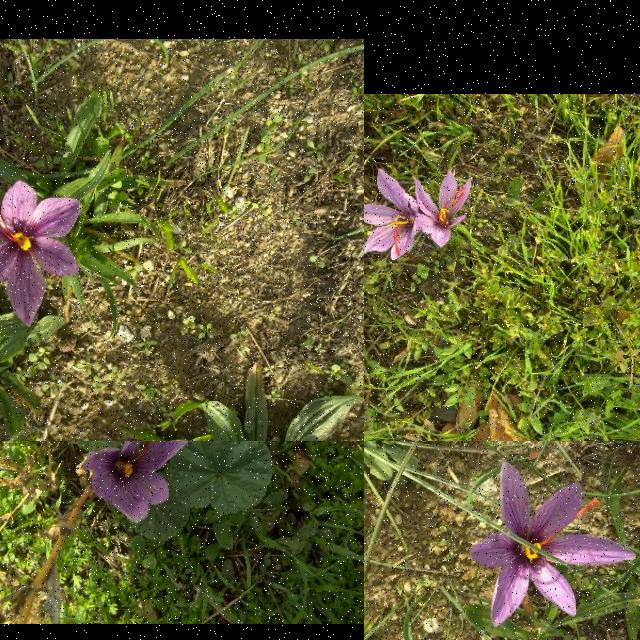flower: (470, 462, 636, 628), (0, 181, 81, 327), (81, 441, 189, 525), (364, 168, 422, 260), (414, 171, 474, 247)
